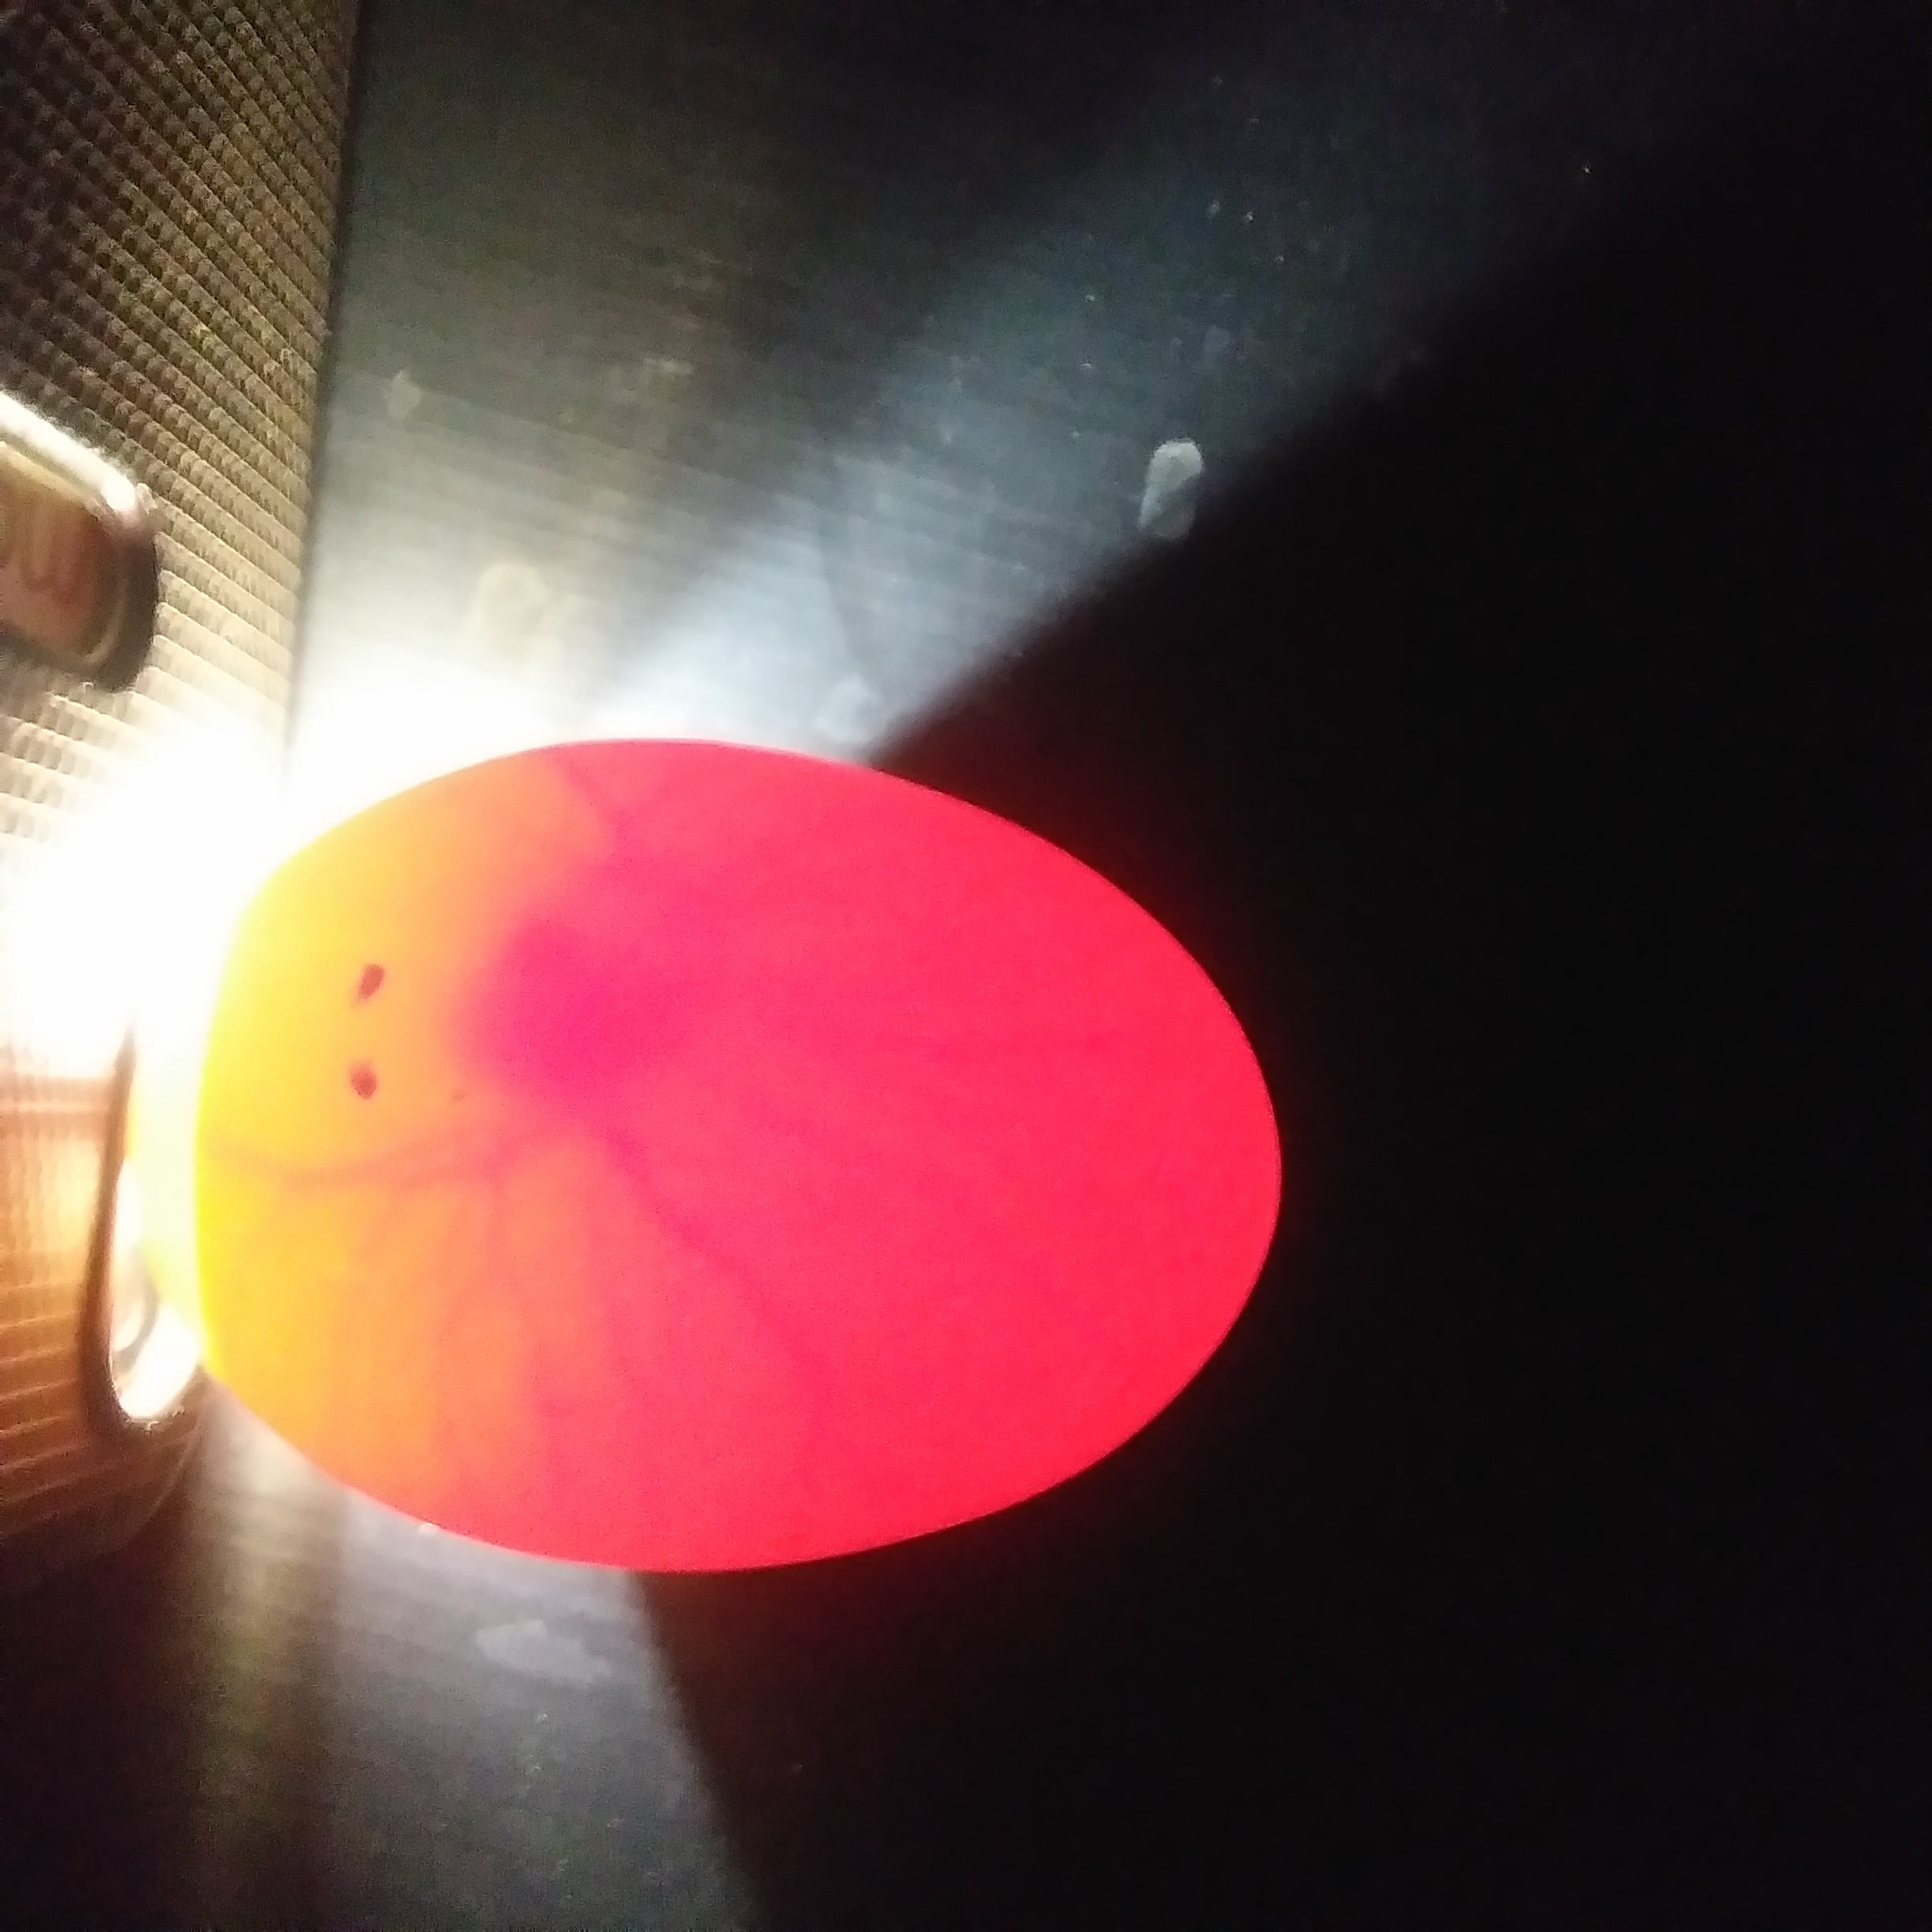bloodcell: (255, 1148, 998, 1449), (504, 761, 740, 849)
embryo: (453, 869, 725, 1113)
